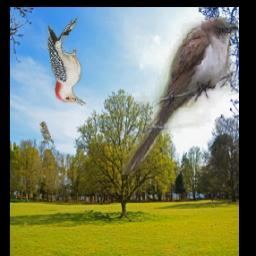Cuckoo: (122, 18, 239, 176)
Sparrow: (39, 122, 54, 146)
Woodpecker: (47, 17, 87, 105)
